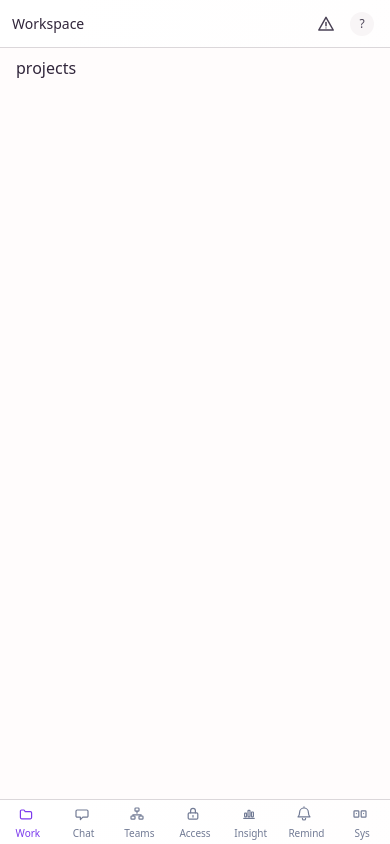
Test case: Mobile module nav sheet — col② reflowed into a bottom sheet › top-bar title opens a sheet exposing the Workspace sections (Issues/Tasks/Plans), not just Projects
Step 1. Click the button with test id "mobile-nav-toggle" → [48, 23], box [12, 14, 302, 34]
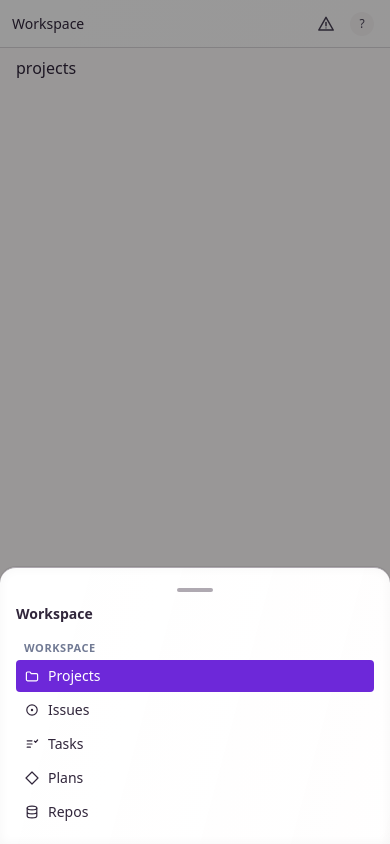
Expected: the text "Projects" is shown, [48, 666, 100, 686]
Expected: the text "Issues" is shown, [48, 700, 89, 720]
Expected: the text "Tasks" is shown, [48, 734, 83, 754]
